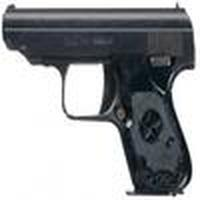gun: (5, 5, 193, 196)
